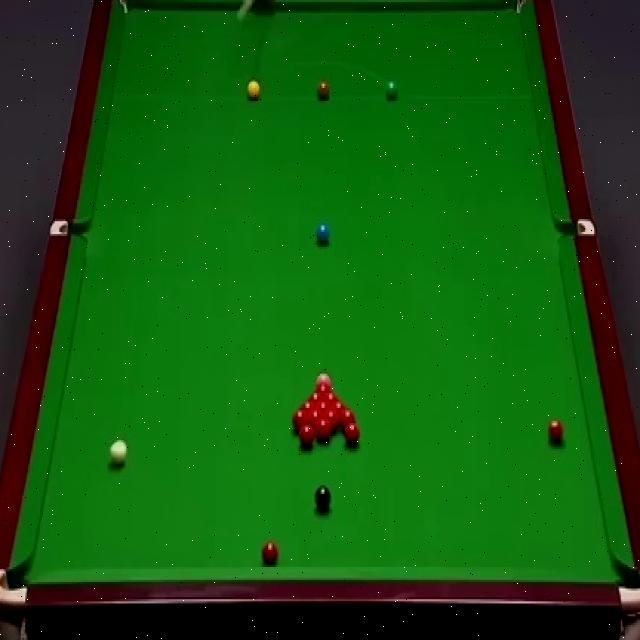black-ball: (315, 484, 332, 513), (316, 370, 332, 386)
blue-ball: (316, 223, 330, 247)
brown-ball: (317, 80, 330, 100)
green-ball: (386, 80, 402, 100)
red-ball: (261, 537, 280, 567), (314, 418, 332, 443), (298, 423, 315, 449), (344, 422, 360, 449), (291, 409, 309, 431), (548, 420, 564, 444), (325, 410, 338, 431), (339, 410, 355, 427), (308, 409, 323, 424), (313, 382, 333, 393), (300, 400, 317, 412), (324, 390, 340, 402), (308, 392, 323, 404), (331, 400, 347, 410), (318, 402, 330, 412)
white-ball: (108, 440, 126, 467)
yellow-ball: (246, 78, 261, 99)
